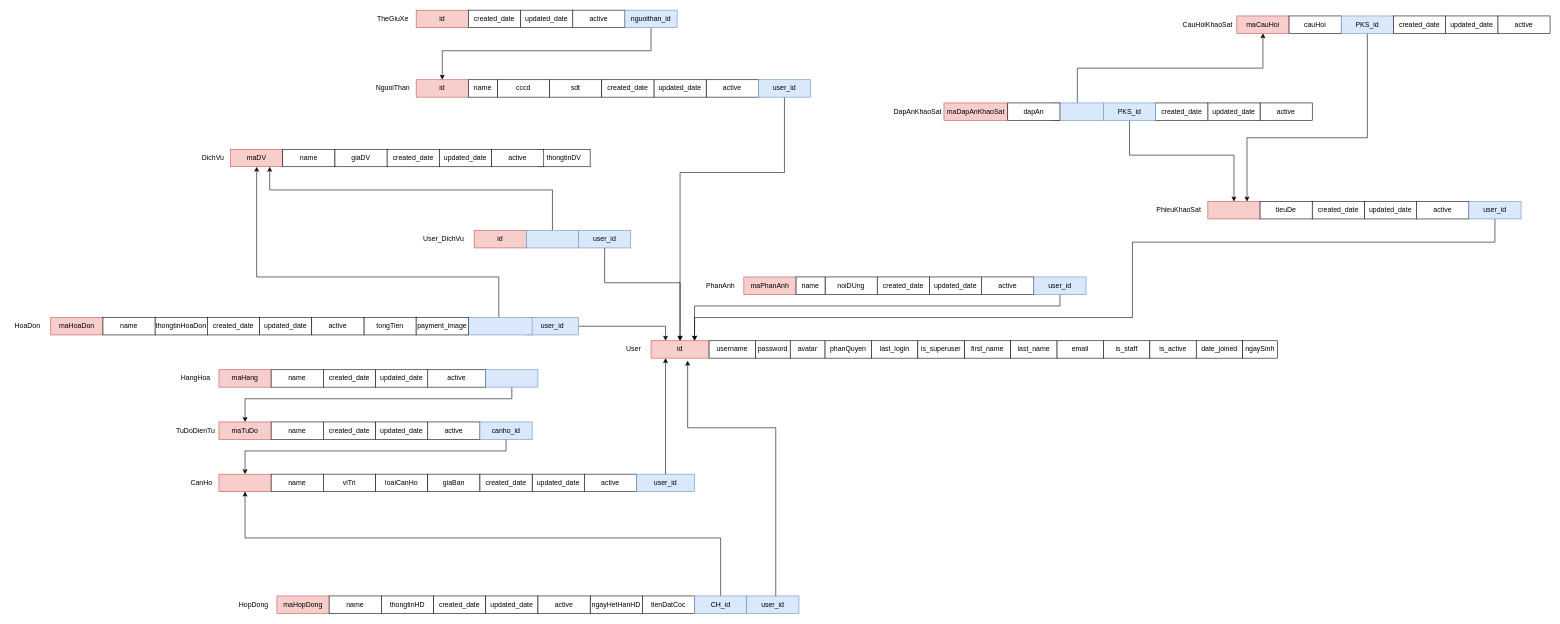
Image size: 1560x624. Some labels were removed from this diagram. The shapes that lost their labels are listed below. From the top down, each one's centre as x and y in pixels, then its label:
At (1077,111): "CHKS_id".
At (1233,210): "maKhaoSat".
At (552,239): "DV_id".
At (498,326): "dichVu_id".
At (511,378): "tuDo_id".
At (244,483): "maCH".
